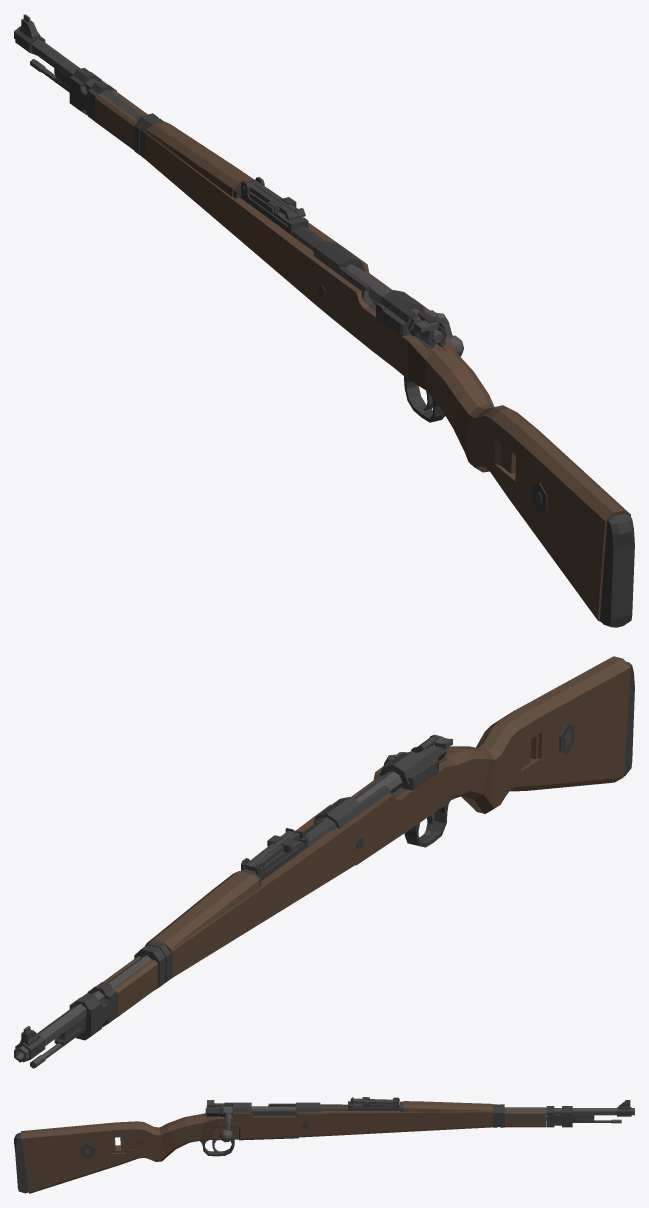
3 views of the same model, one above another, from view 1: azimuth 30°, elevation 25°; view 2: azimuth 150°, elevation 25°; view 3: azimuth 270°, elevation 25° (orthographic). The views are drawn at different scales.
Visible parts, largest first — view 1: kar98k; view 2: kar98k; view 3: kar98k.
Boxes of the visible parts, x1,y1,x2,y2 form: kar98k: (14,14,634,627); kar98k: (14,656,634,1068); kar98k: (14,1097,634,1193).
Size of the model in its own units: 0.0671 by 0.1845 by 1.11.
